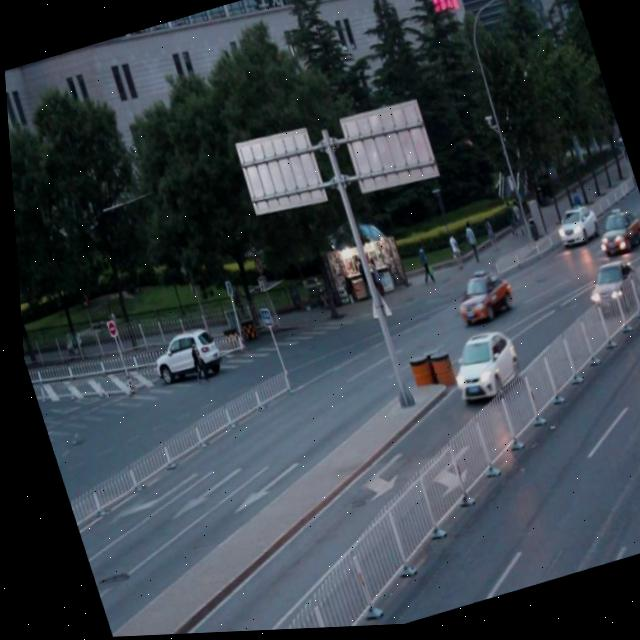car: (439, 329, 519, 407), (141, 322, 219, 388), (444, 268, 513, 332), (574, 260, 640, 319), (587, 208, 640, 261), (544, 204, 596, 254)
